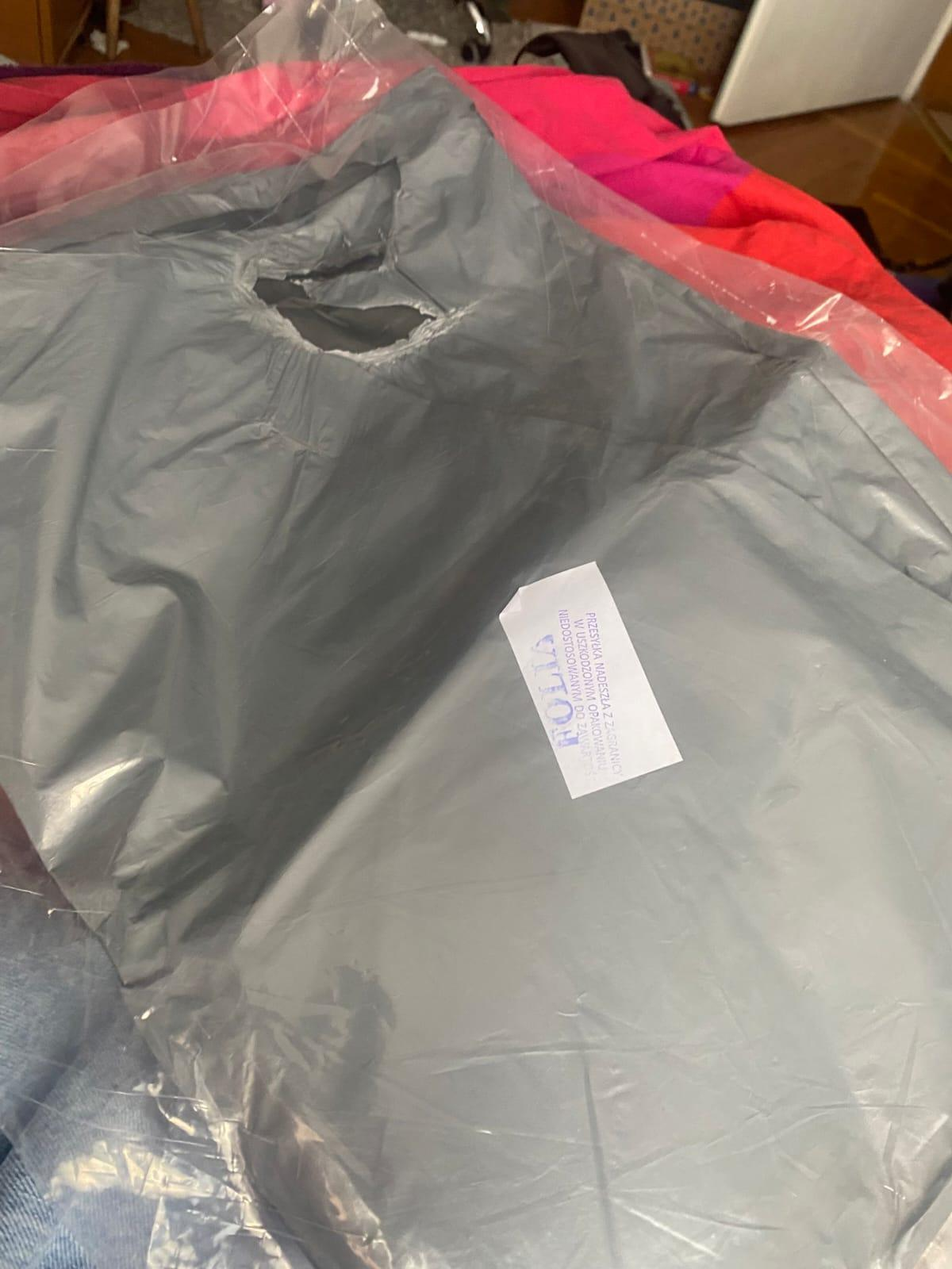damaged package: (207, 215, 439, 382)
undamaged: (0, 35, 950, 1267)
